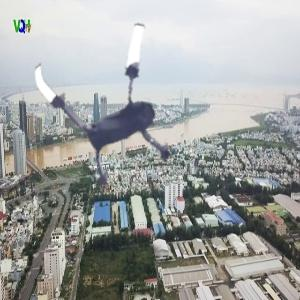drone: (25, 15, 213, 203)
